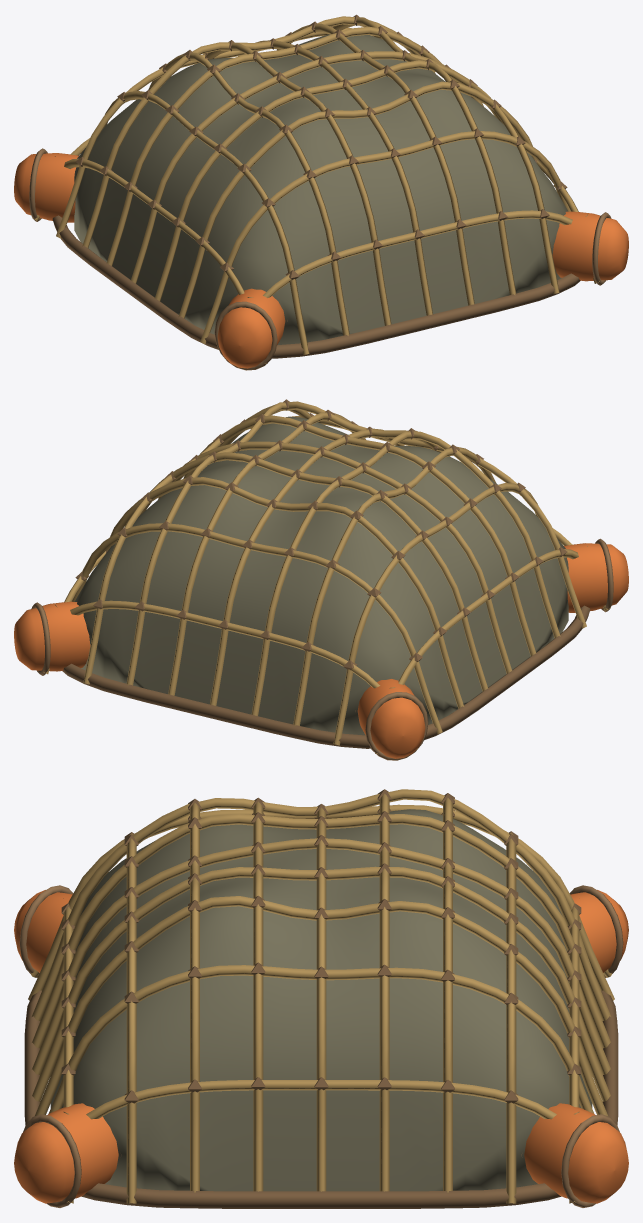
Rendered from detail_cargo_net.glb.
3 views of the same model, one above another, from view 1: azimuth 30°, elevation 25°; view 2: azimuth 150°, elevation 25°; view 3: azimuth 270°, elevation 25° (orthographic). The views are drawn at different scales.
Parts seen in each view (by area): view 1: cloth, wood, metal; view 2: cloth, wood, metal; view 3: cloth, wood, metal.
Part boxes in pixels (bbox=[...]): cloth: bbox=[32, 14, 599, 363]; wood: bbox=[14, 153, 628, 368]; metal: bbox=[29, 148, 611, 370]; cloth: bbox=[43, 399, 610, 754]; wood: bbox=[14, 543, 628, 758]; metal: bbox=[31, 538, 613, 760]; cloth: bbox=[24, 789, 618, 1208]; wood: bbox=[14, 890, 628, 1203]; metal: bbox=[19, 885, 623, 1207].
Bounding box in the file's own units: 1.3 × 0.6 × 1.3.
